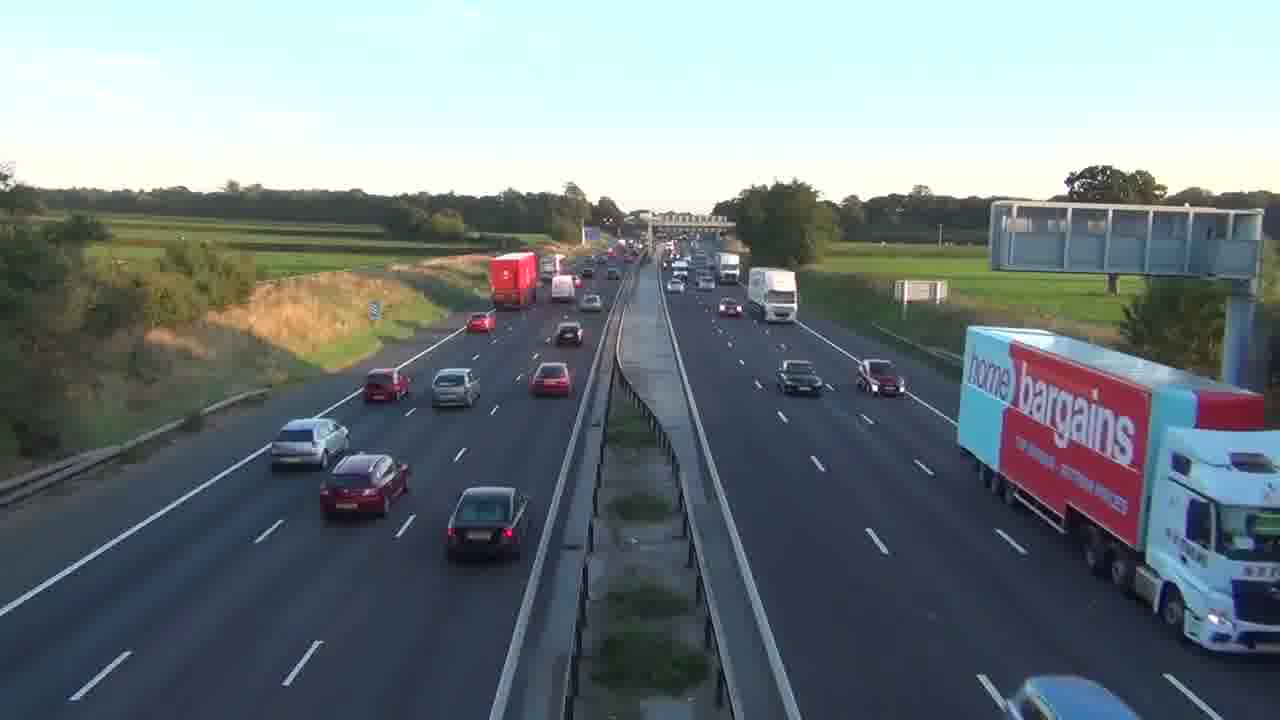car: (443, 484, 531, 563), (319, 451, 409, 519), (270, 417, 350, 472), (430, 367, 481, 409), (855, 358, 905, 397), (775, 359, 825, 397), (362, 367, 411, 404), (529, 360, 573, 398), (549, 320, 584, 347)
truck: (956, 325, 1279, 657), (746, 267, 799, 323), (550, 273, 577, 302)
